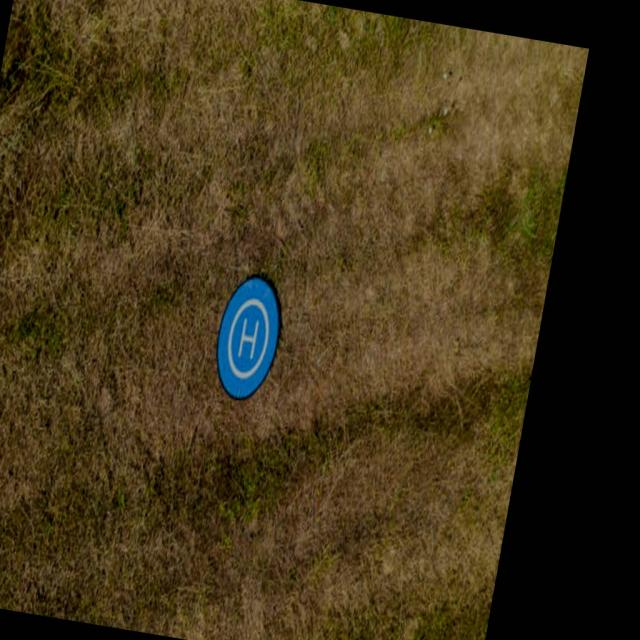helipad: (224, 294, 272, 380)
